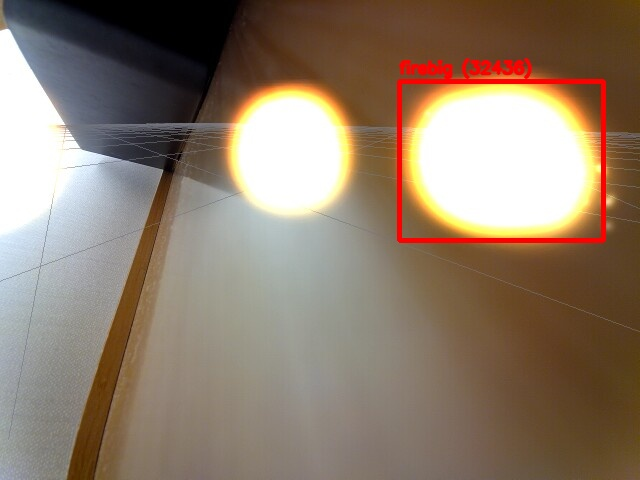firebig: (399, 81, 603, 240)
